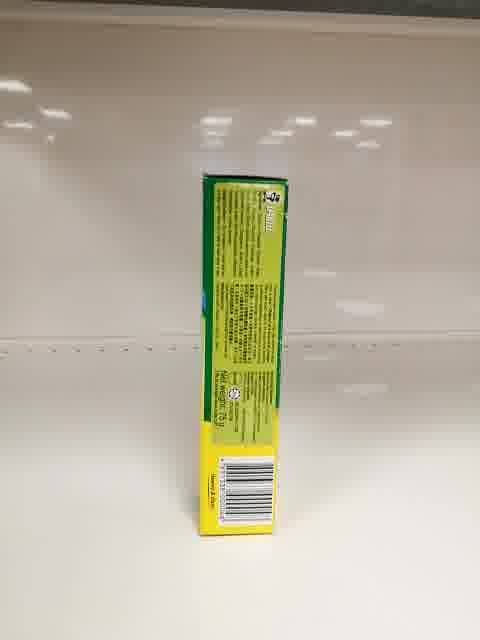toothpaste: (197, 172, 288, 538)
